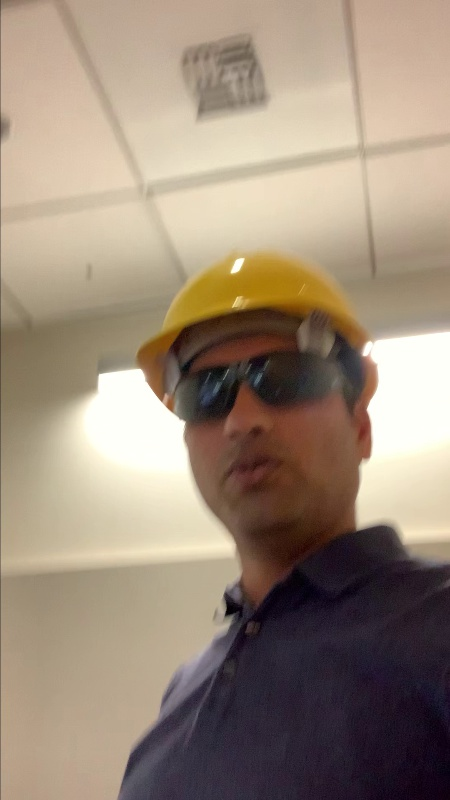glasses: (156, 349, 357, 421)
helmet: (128, 242, 384, 348)
